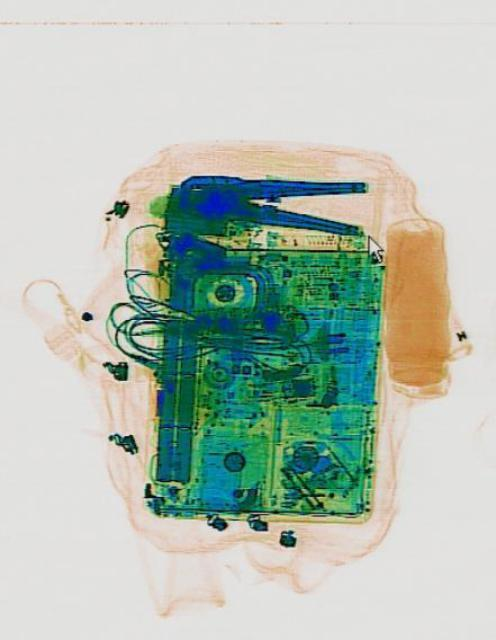Pliers: (175, 160, 365, 233)
